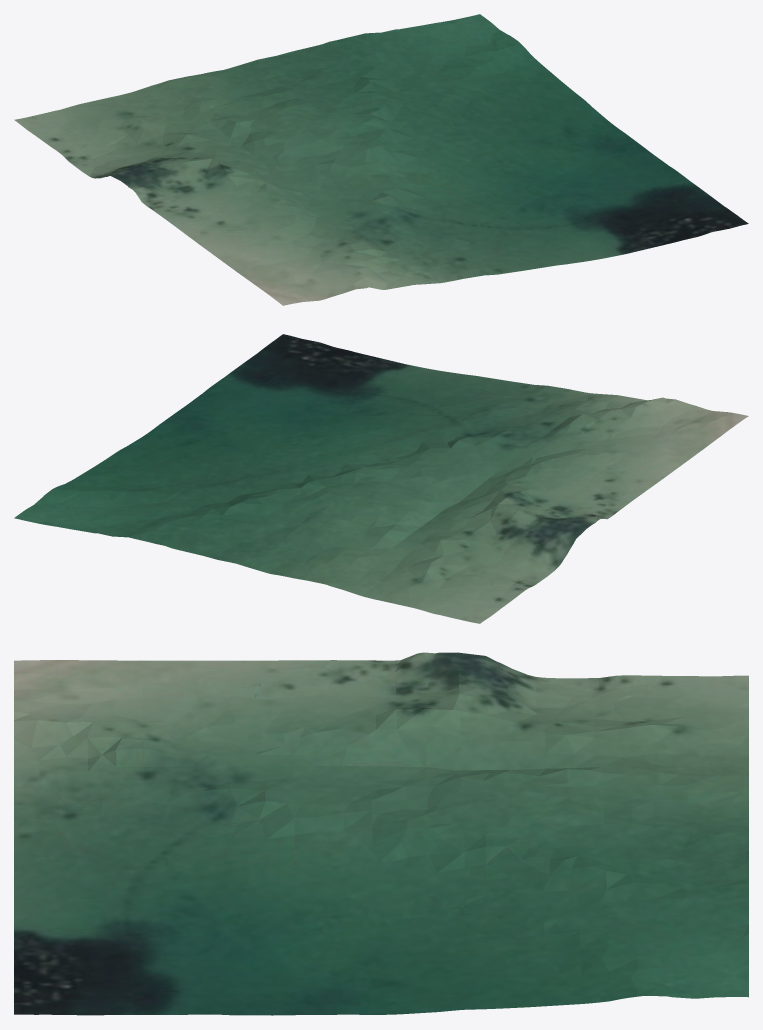
3 views of the same model, one above another, from view 1: azimuth 30°, elevation 25°; view 2: azimuth 150°, elevation 25°; view 3: azimuth 270°, elevation 25° (orthographic). The views are drawn at different scales.
Size of the model in its own units: 104 by 8.77 by 104.
Materials: 3 (3 with a texture image).
